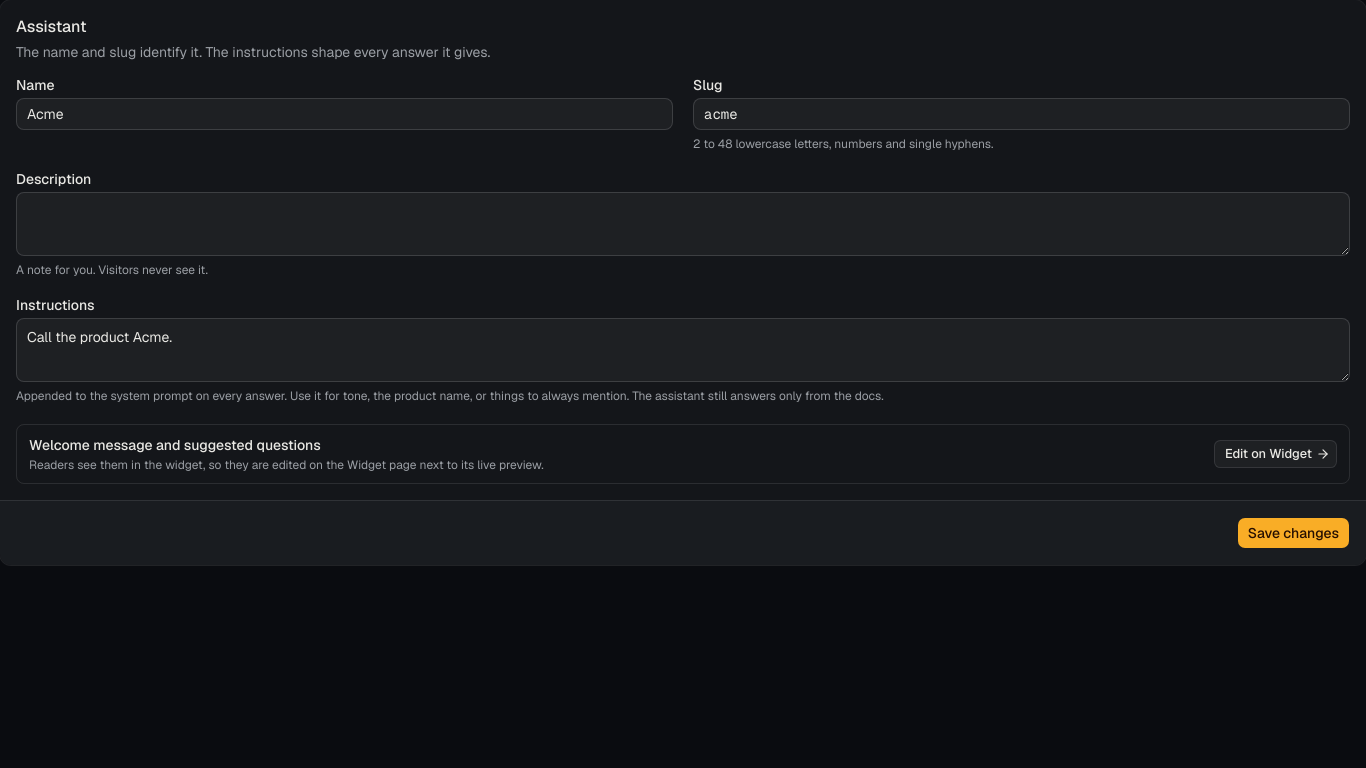
Test: AssistantSettingsForm › shows a field error next to the slug
Click the button "Save changes": (1293,533) [1237,517,1350,549]
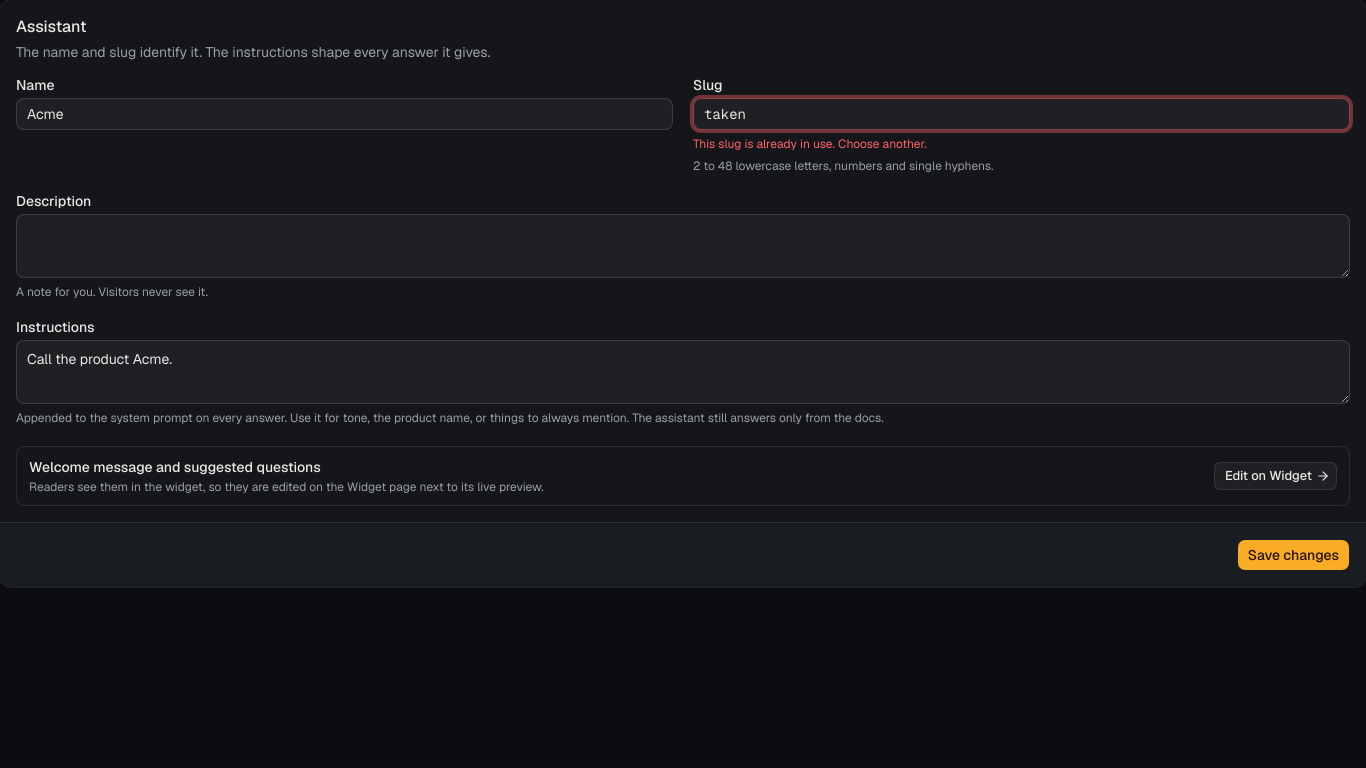
Check: the text "This slug is already in use. Choose another." is shown, box [693,136,927,152]
Check: the field labelled "Slug" holds "taken", box [693,98,1350,130]
